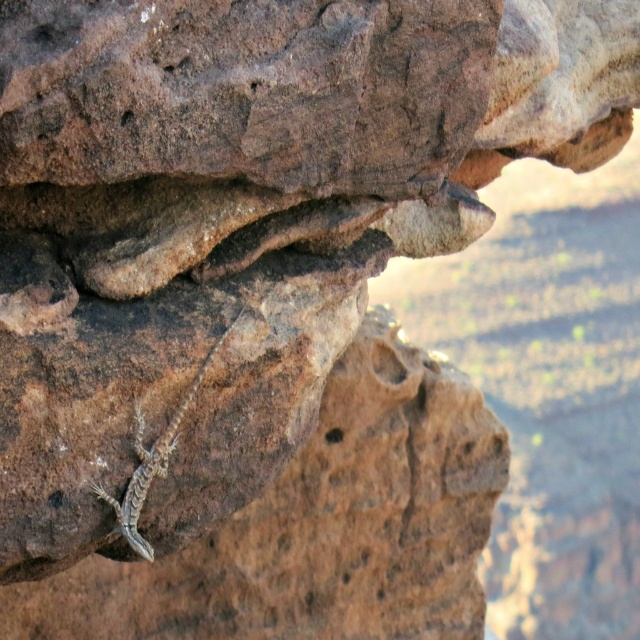Lizard: (88, 304, 249, 562)
